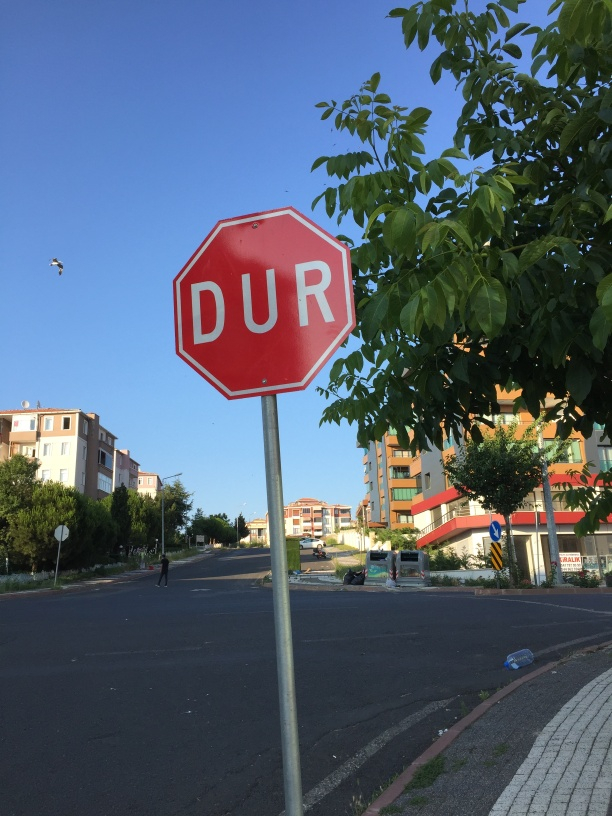arac_dur_isareti: (163, 163, 369, 528)
